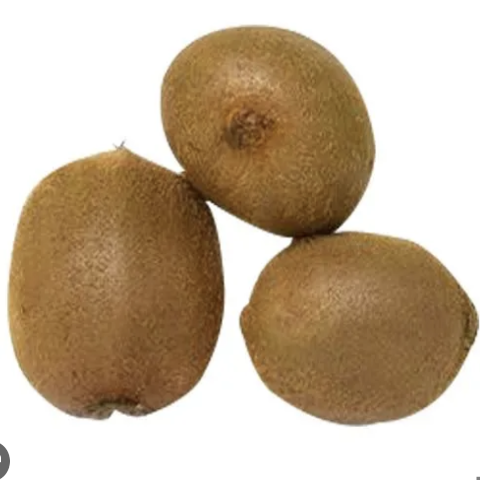kiwi: (0, 126, 235, 446), (144, 8, 399, 257), (227, 232, 478, 451)
